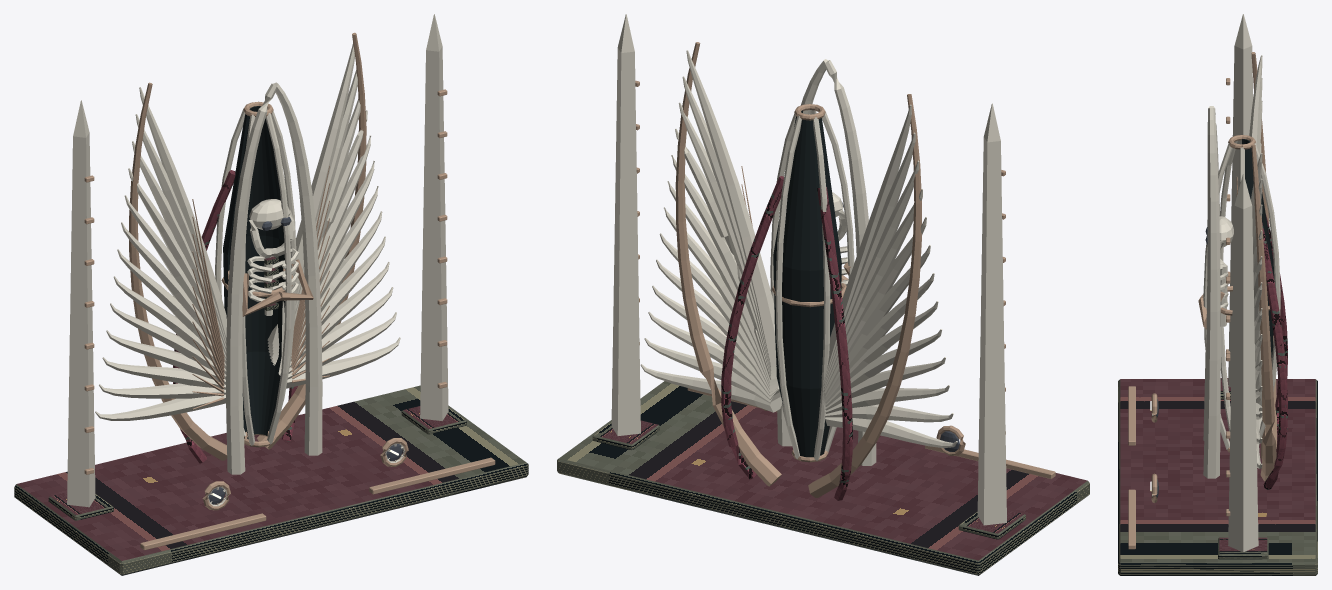
Rendered from ossuary_winged_sarcophagus.glb.
3 renders of one model, left to right at view 1: azimuth 30°, elevation 25°; view 2: azimuth 150°, elevation 25°; view 3: azimuth 270°, elevation 25°, orthographic. The views are drawn at different scales.
Visible parts, largest first — view 1: ossuary_winged_sarcophagus_warm, ossuary_winged_sarcophagus_petrol, ossuary_winged_sarcophagus_worn, ossuary_winged_sarcophagus_bruised; view 2: ossuary_winged_sarcophagus_warm, ossuary_winged_sarcophagus_petrol, ossuary_winged_sarcophagus_worn, ossuary_winged_sarcophagus_bruised; view 3: ossuary_winged_sarcophagus_petrol, ossuary_winged_sarcophagus_warm, ossuary_winged_sarcophagus_worn, ossuary_winged_sarcophagus_bruised.
Boxes of the visible parts, box(x1,y1,x2,y2) form: ossuary_winged_sarcophagus_warm: box(67, 14, 448, 507); ossuary_winged_sarcophagus_petrol: box(14, 106, 528, 575); ossuary_winged_sarcophagus_worn: box(84, 32, 495, 550); ossuary_winged_sarcophagus_bruised: box(173, 170, 297, 463); ossuary_winged_sarcophagus_warm: box(611, 14, 1006, 525); ossuary_winged_sarcophagus_petrol: box(557, 110, 1089, 575); ossuary_winged_sarcophagus_worn: box(635, 42, 1055, 497); ossuary_winged_sarcophagus_bruised: box(721, 176, 852, 500); ossuary_winged_sarcophagus_petrol: box(1118, 139, 1317, 575); ossuary_winged_sarcophagus_warm: box(1152, 14, 1280, 552); ossuary_winged_sarcophagus_worn: box(1128, 52, 1276, 549); ossuary_winged_sarcophagus_bruised: box(1262, 214, 1287, 489).
Size of the model in its own units: 6.9 by 6.79 by 3.15.
Materials: 6 (2 with a texture image).
